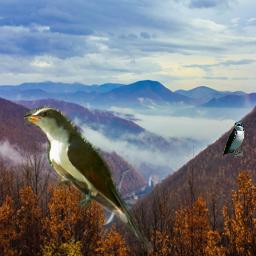Cuckoo: (24, 104, 153, 252)
Swallow: (223, 121, 245, 156)
